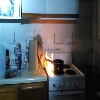fire: (45, 51, 53, 77)
